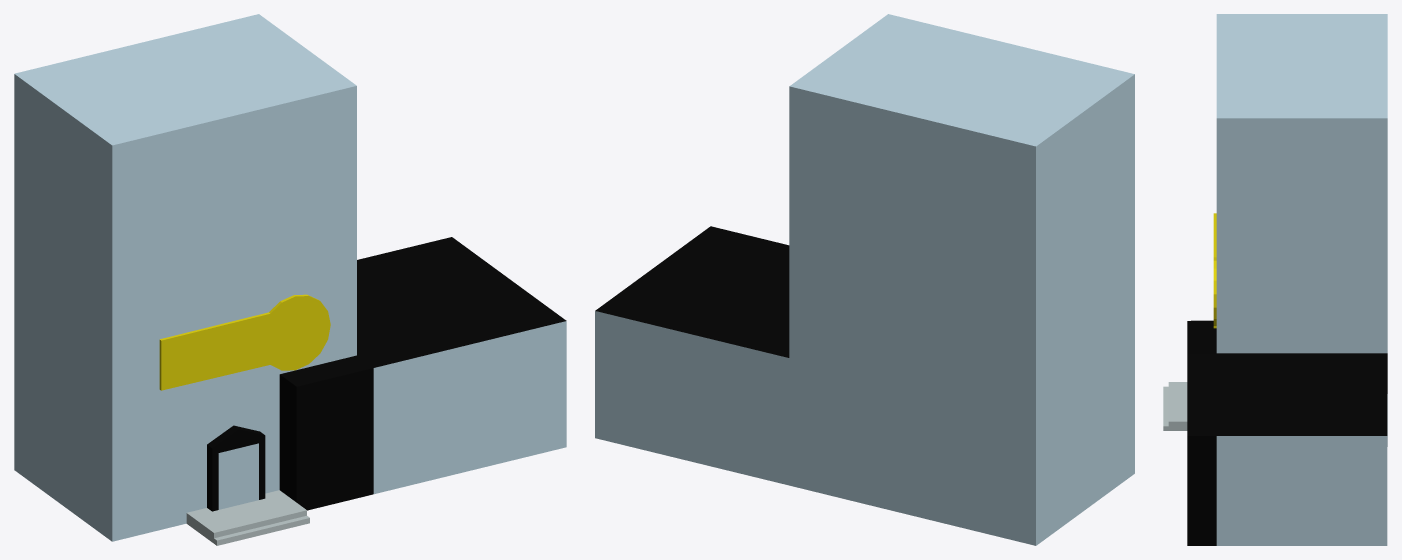
File: Hotel.fbx
3 renders of one model, left to right at view 1: azimuth 30°, elevation 25°; view 2: azimuth 150°, elevation 25°; view 3: azimuth 270°, elevation 25°, orthographic. The views are drawn at different scales.
Visible parts, largest first — view 1: Cube.001, Circle, Cube, Cube.002; view 2: Cube.001; view 3: Cube.001, Cube.002, Circle.
Boxes of the visible parts, <box> form: Cube.001: <box>14,14,566,541</box>; Circle: <box>159,294,330,390</box>; Cube: <box>207,425,265,511</box>; Cube.002: <box>186,490,309,545</box>; Cube.001: <box>595,14,1134,545</box>; Cube.001: <box>1187,14,1387,545</box>; Cube.002: <box>1163,382,1187,430</box>; Circle: <box>1213,213,1216,328</box>.
Bounding box in the file's own units: 1652 × 1429 × 840.
